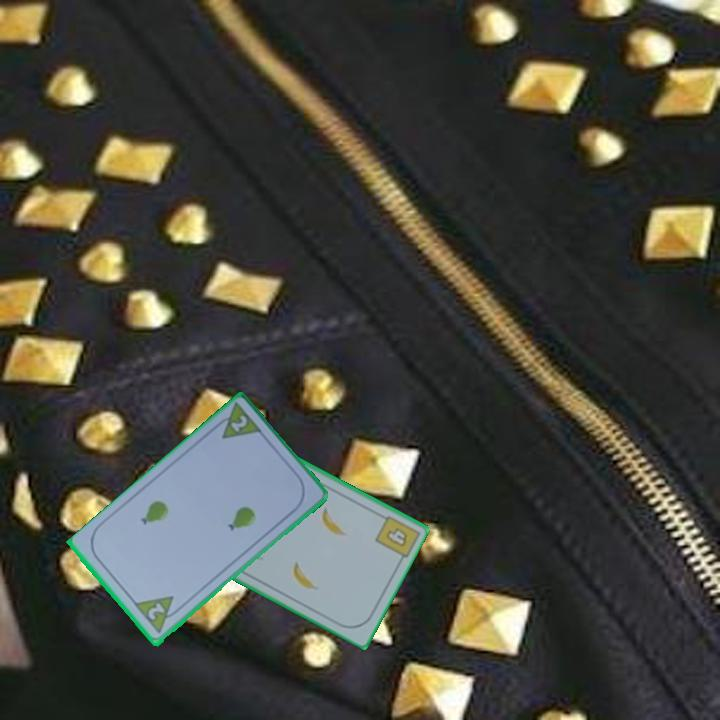2p: (132, 592, 185, 637), (227, 412, 251, 436)
4b: (382, 524, 411, 550)
